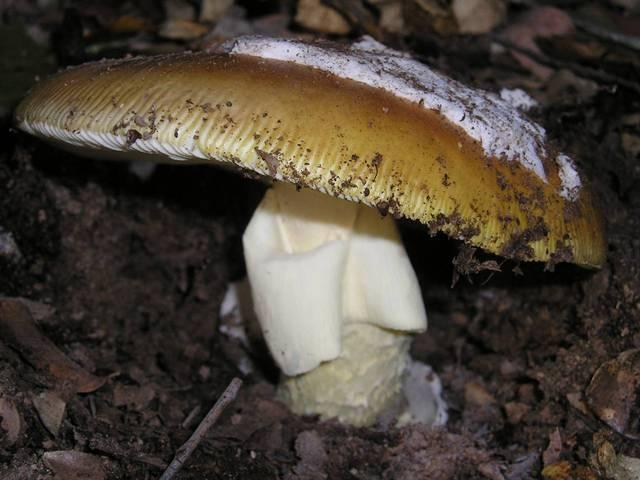Edible Mushroom: (11, 31, 609, 381)
